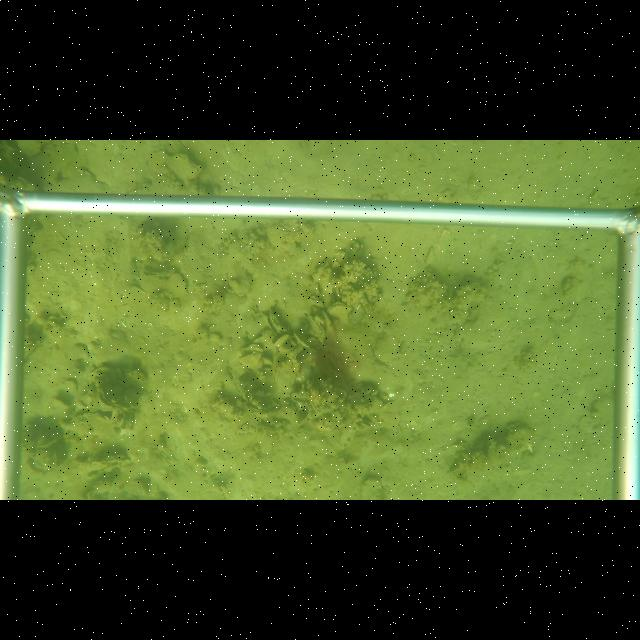Oyster-Closed: (155, 150, 203, 179), (271, 359, 299, 394), (228, 261, 253, 299), (265, 306, 290, 333), (324, 300, 352, 317), (169, 272, 189, 295), (308, 315, 324, 337), (304, 296, 326, 308), (236, 380, 248, 402), (292, 346, 303, 359)
Oyster-Open: (142, 267, 173, 278)
